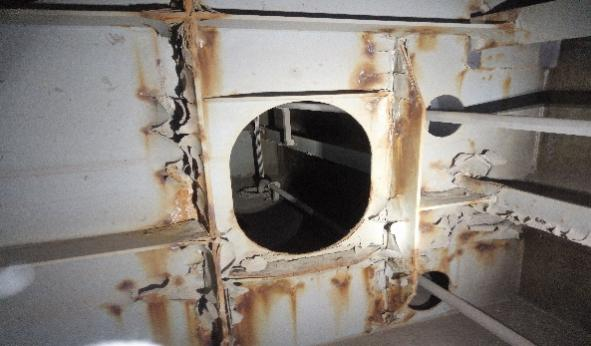corrosion: (177, 292, 257, 342), (363, 265, 418, 329), (385, 108, 423, 195), (138, 0, 226, 30), (344, 30, 386, 87), (156, 168, 200, 222), (461, 0, 525, 37), (187, 33, 224, 94), (462, 227, 518, 267), (143, 287, 180, 344), (325, 271, 358, 332), (233, 283, 303, 308), (100, 281, 137, 319), (127, 76, 162, 114), (134, 248, 178, 278), (287, 287, 305, 343), (417, 211, 448, 241), (500, 71, 522, 102), (143, 128, 166, 155), (413, 30, 441, 52), (195, 126, 214, 156), (437, 250, 458, 274), (454, 64, 472, 86), (432, 157, 456, 172)
